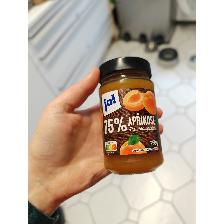Marmelade: (98, 55, 164, 175)
